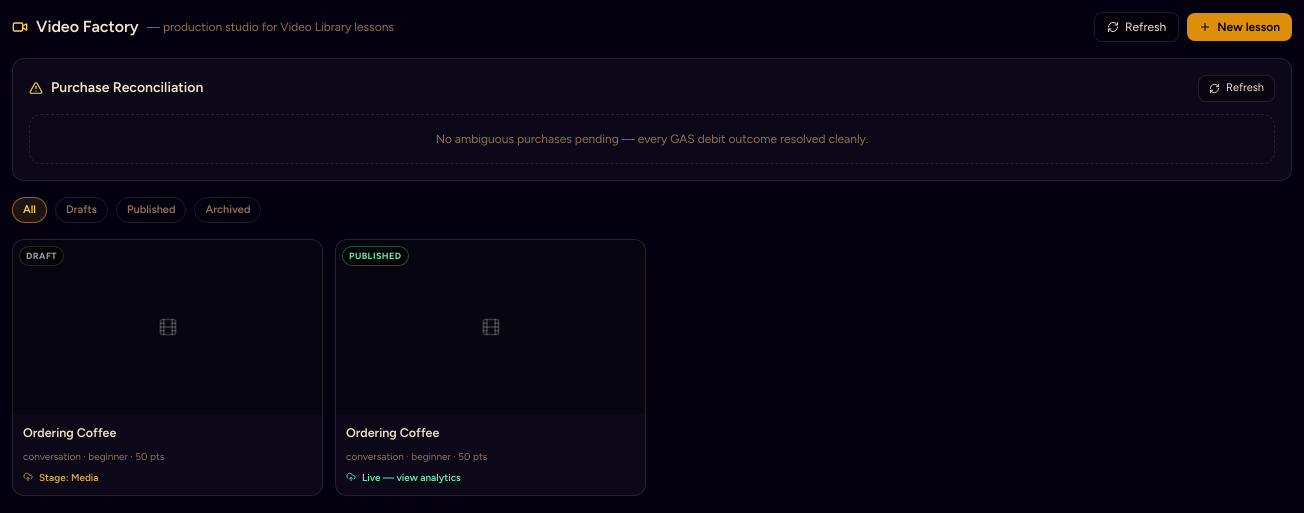
Test case: status filters narrow the visible library
Expected: the button with test id "video-factory-lesson-vid_1" is shown, [12, 239, 323, 496]
Click the button with test id "video-factory-filter-published" at (151, 210), box [116, 196, 186, 223]
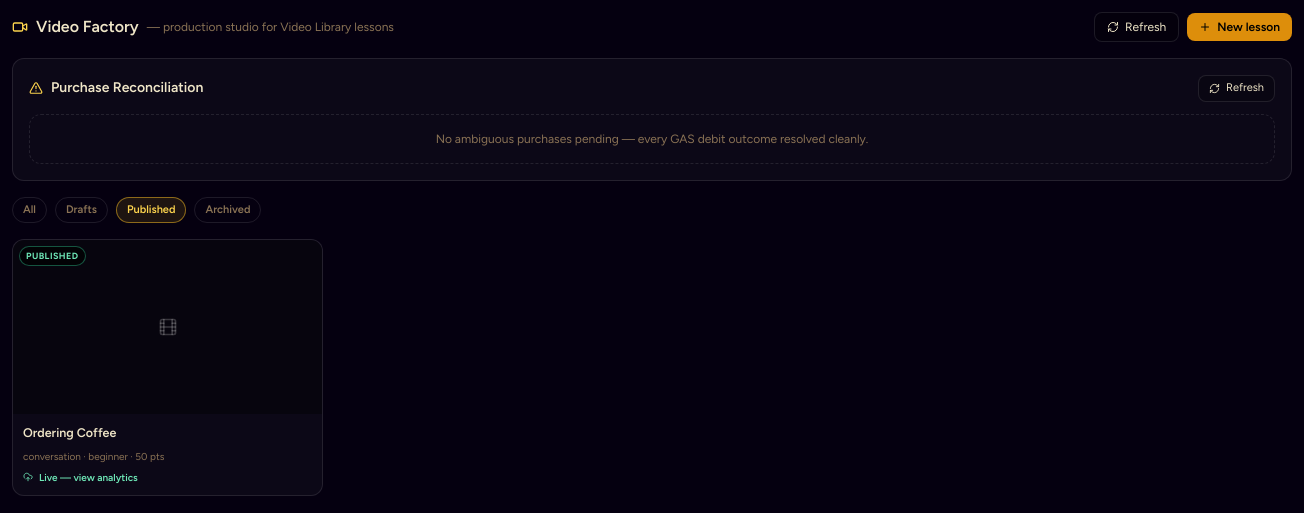
Expected: the button with test id "video-factory-lesson-vid_2" is shown, [12, 239, 323, 496]
Expected: the button with test id "video-factory-lesson-vid_1" is gone
